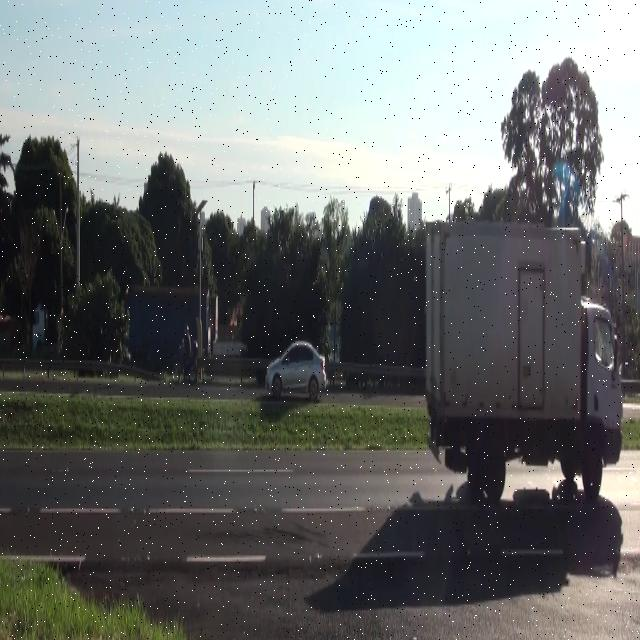-axle: (483, 433, 508, 508), (582, 442, 603, 504)
